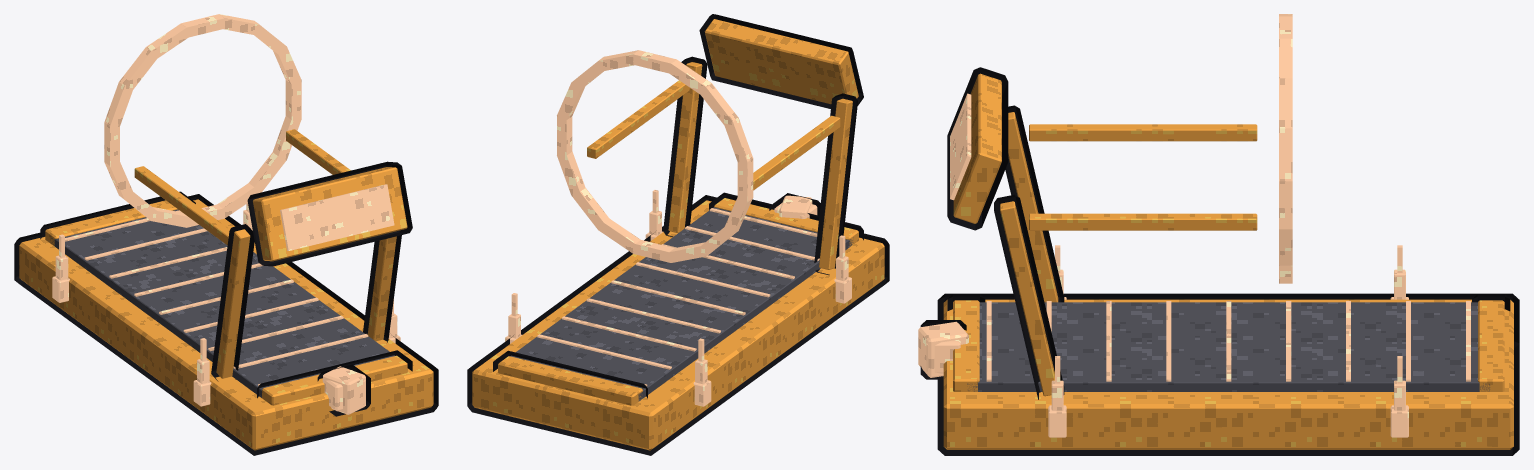
The model's file is treadmill_10.glb.
The picture shows the model from 3 angles, left to right: view 1: azimuth 30°, elevation 25°; view 2: azimuth 150°, elevation 25°; view 3: azimuth 270°, elevation 25°; orthographic projection. The views are drawn at different scales.
Visible parts, largest first — view 1: model; view 2: model; view 3: model.
Boxes of the visible parts, x1=… form: model: x1=14, y1=14, x2=438, y2=455; model: x1=467, y1=14, x2=889, y2=455; model: x1=918, y1=14, x2=1519, y2=455.
Bounding box in the file's own units: 1.33 × 1.96 × 2.85.
4 materials, 3 textured.
